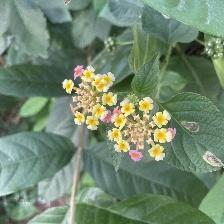common lanthana: (109, 96, 181, 164), (60, 66, 122, 134)
